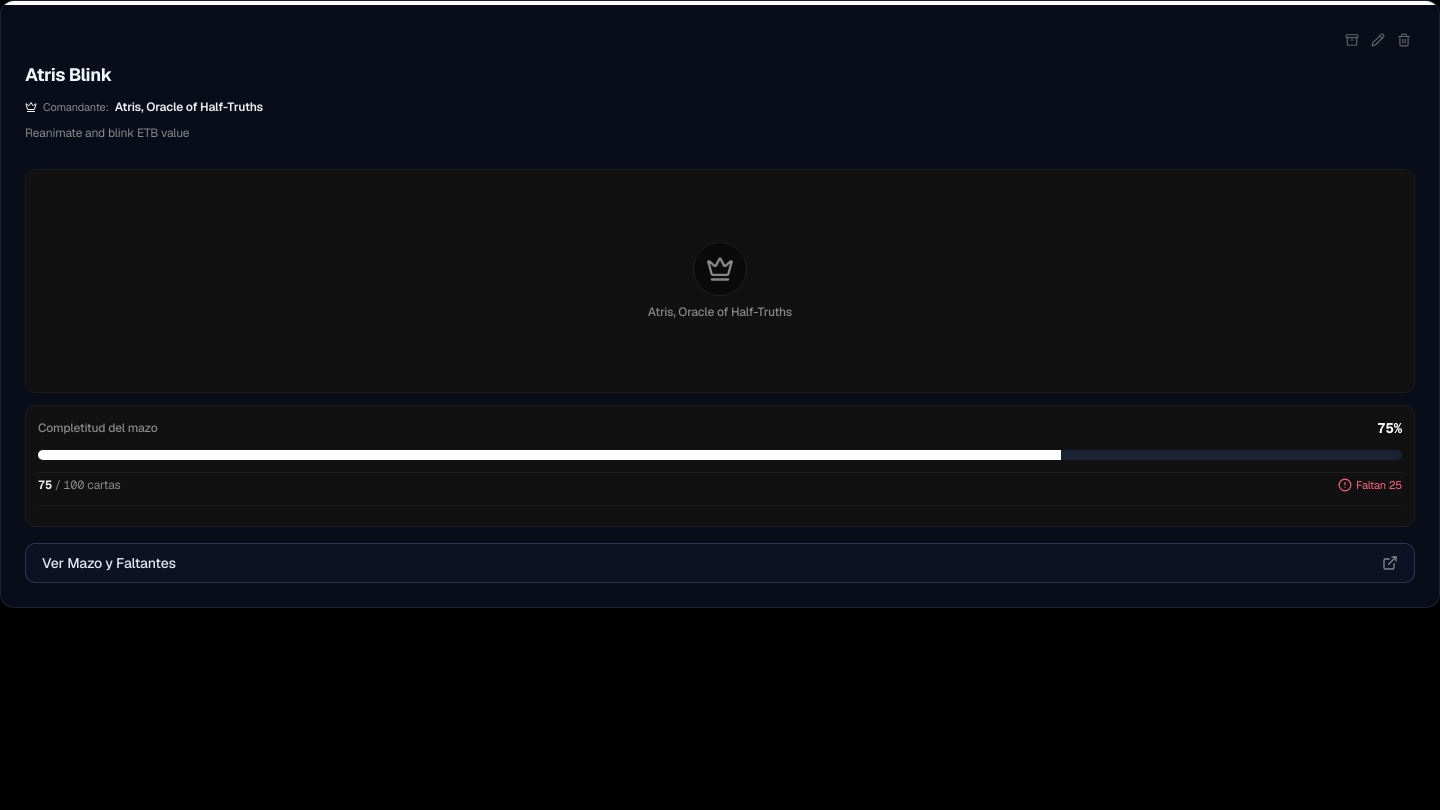
Test case: Deck Archiving › should show 'Archivar mazo' button when deck is active and toggle archive status
Expected: the text "Archivado" is not shown
Click the button titled "Archivar mazo". click: (1352, 40)
box: [1341,29,1363,51]
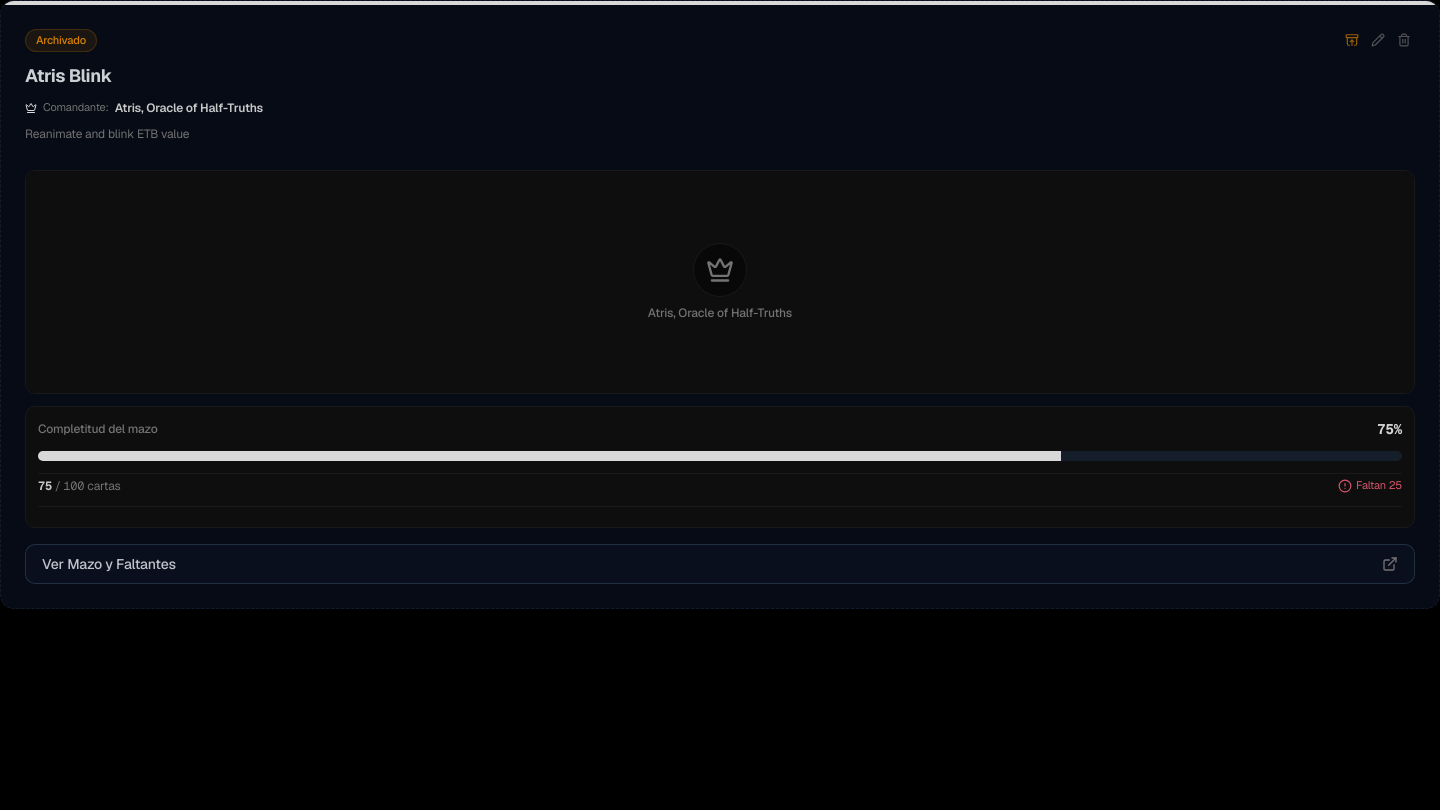
Expected: the text "Archivado" is shown, [25,29,97,52]
Expected: the button titled "Desarchivar mazo" is shown, [1341,29,1363,51]
